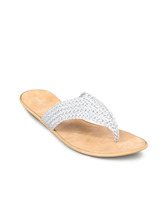shoes: (13, 79, 149, 159)
